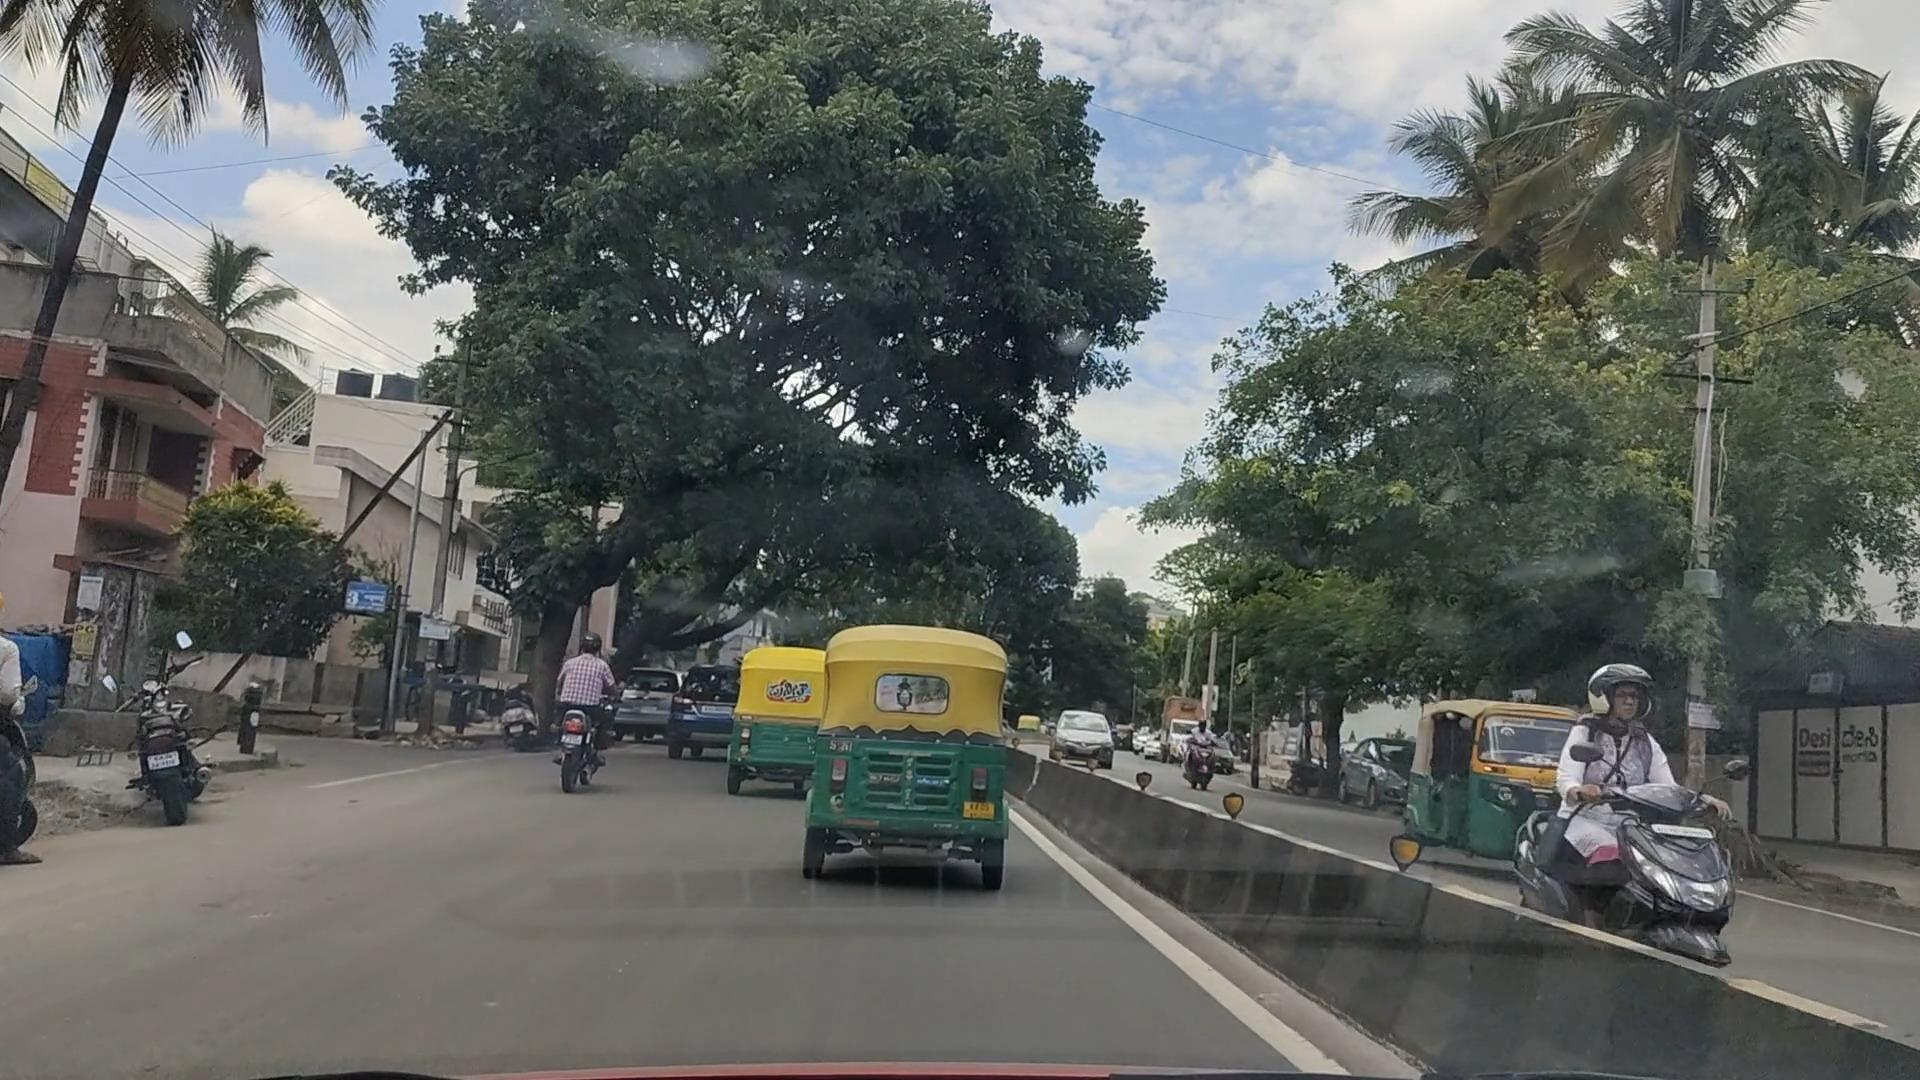LMV: (823, 638, 1035, 889), (717, 638, 841, 800), (543, 636, 628, 790)
